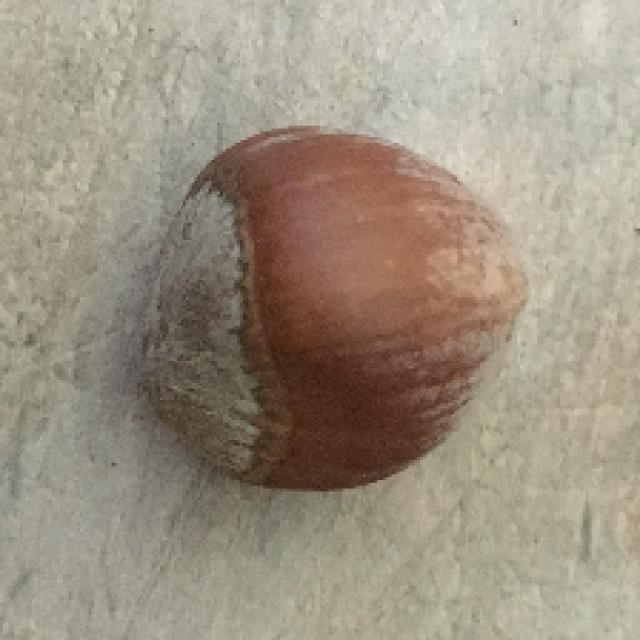qualityHazelnut: (143, 130, 527, 496)
